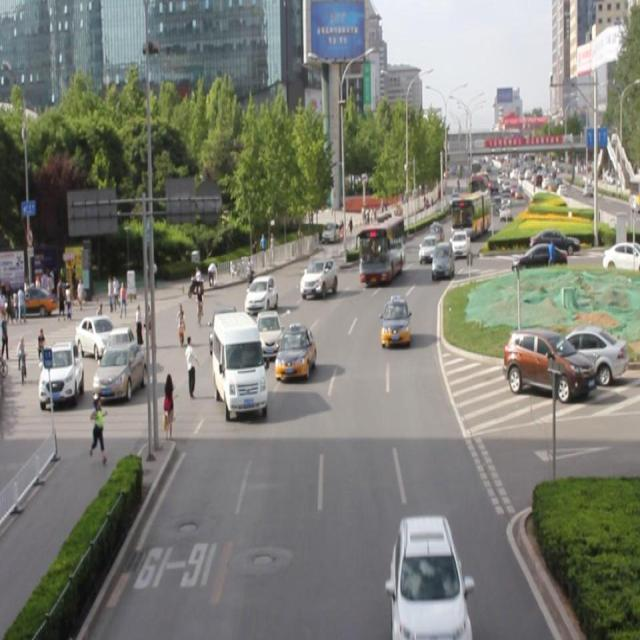car: (389, 513, 468, 640), (275, 324, 314, 378), (299, 257, 337, 294), (244, 273, 278, 314), (380, 297, 409, 345), (255, 309, 282, 355), (431, 241, 452, 277), (418, 234, 436, 263), (449, 230, 469, 255)
truck: (211, 310, 267, 409)
van: (358, 214, 403, 275)
